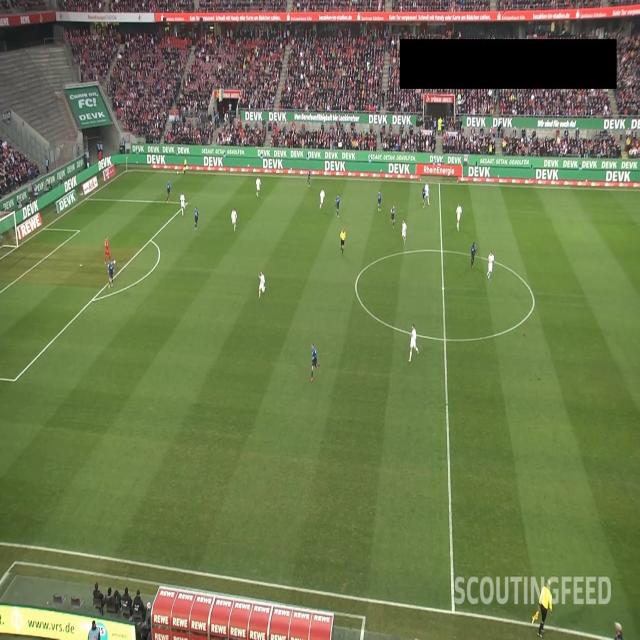ball: (113, 259, 116, 264)
